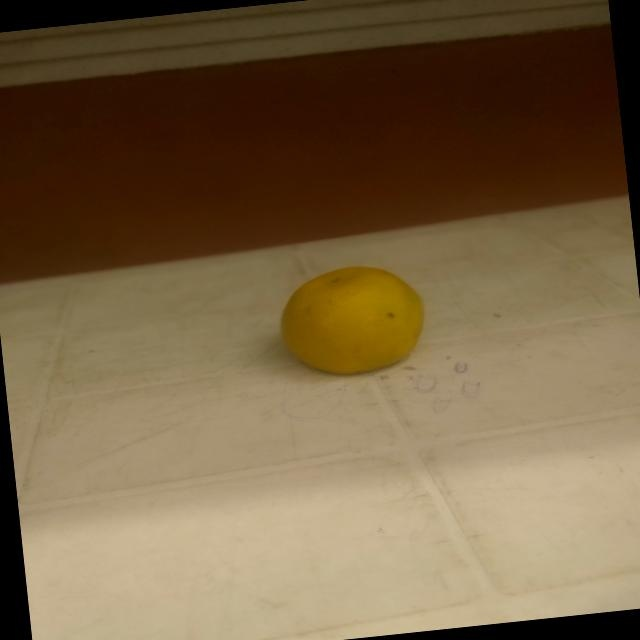agrume: (260, 248, 440, 396)
